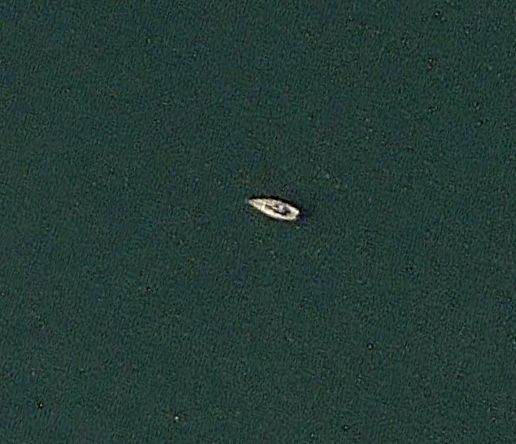boat: (243, 191, 303, 224)
